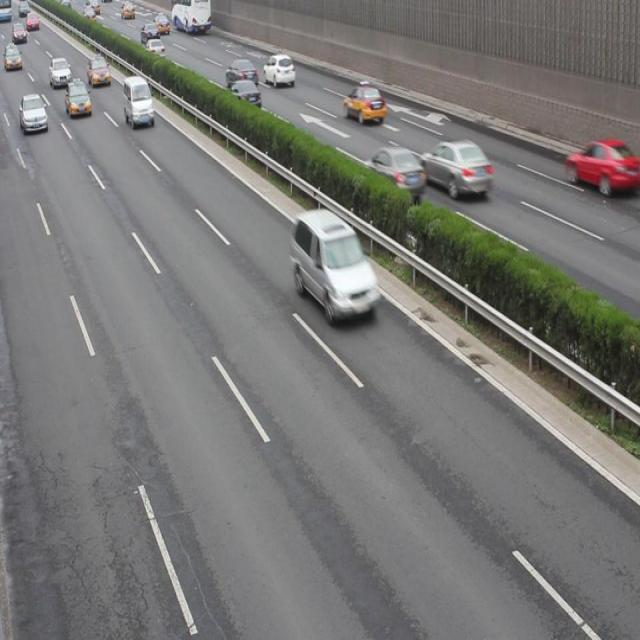car: (420, 140, 490, 197), (564, 139, 631, 193), (364, 148, 426, 194), (343, 83, 384, 122), (226, 80, 261, 110), (64, 81, 92, 118), (20, 94, 47, 132), (263, 55, 295, 87), (225, 60, 258, 89), (86, 57, 110, 86), (49, 56, 71, 86), (143, 40, 164, 60), (140, 24, 158, 46), (153, 14, 170, 37)
truck: (291, 212, 379, 321), (123, 78, 155, 128)
